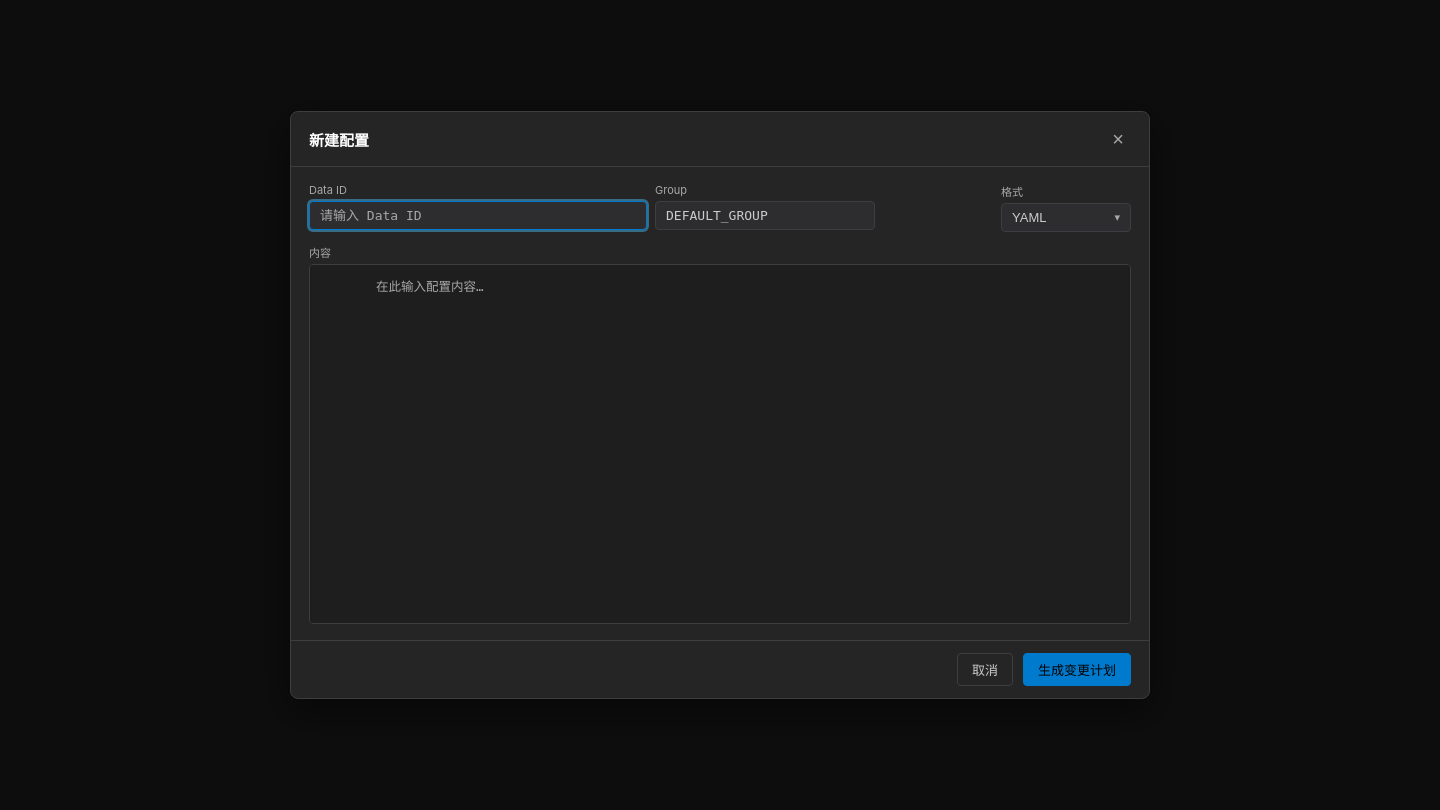
Test: ConfigEditor › requires a dataId before generating the plan
Step 1. Click the button "生成变更计划" → (1077, 670), box [1023,653,1131,686]
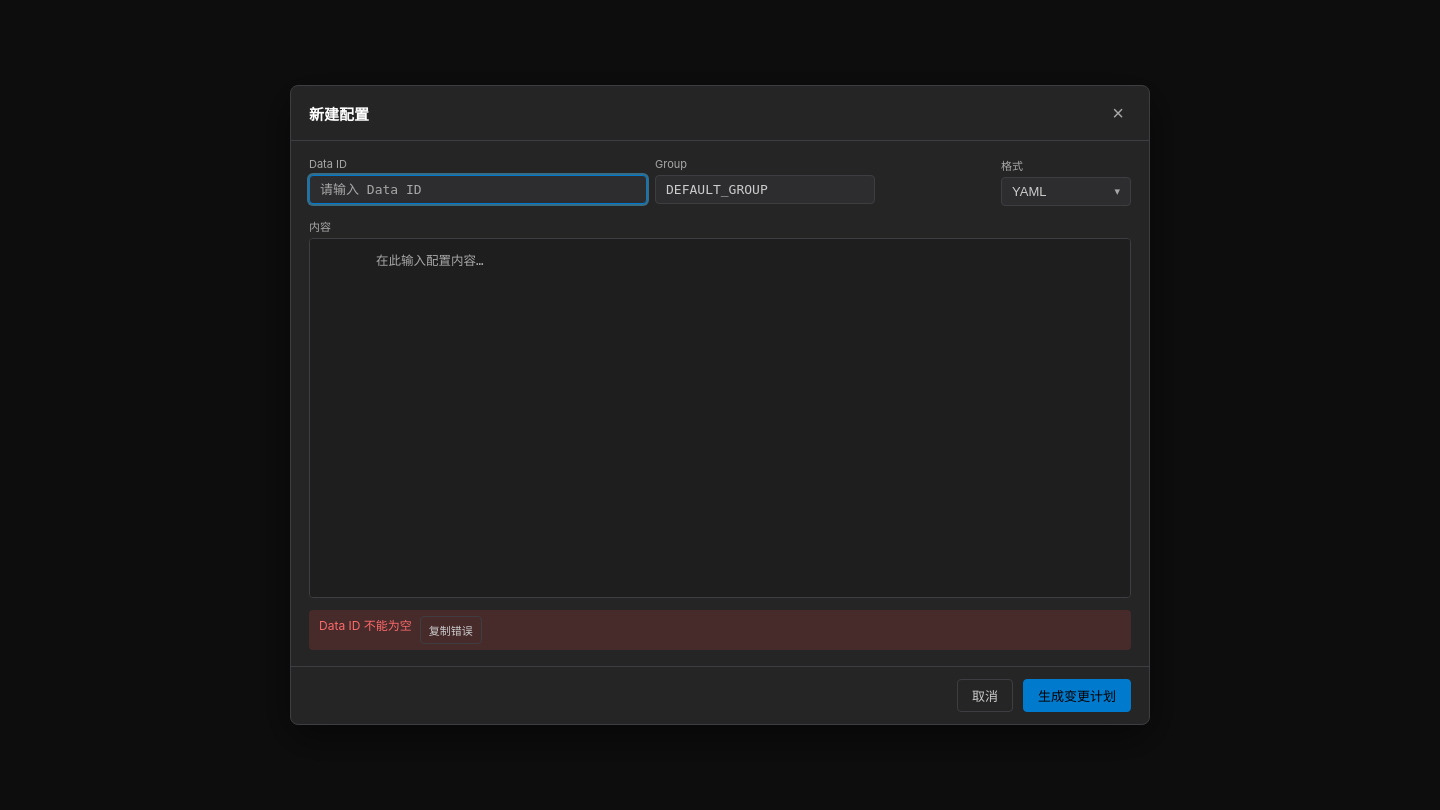
Now the text "Data ID 不能为空" is shown, box [319,616,412,633]
